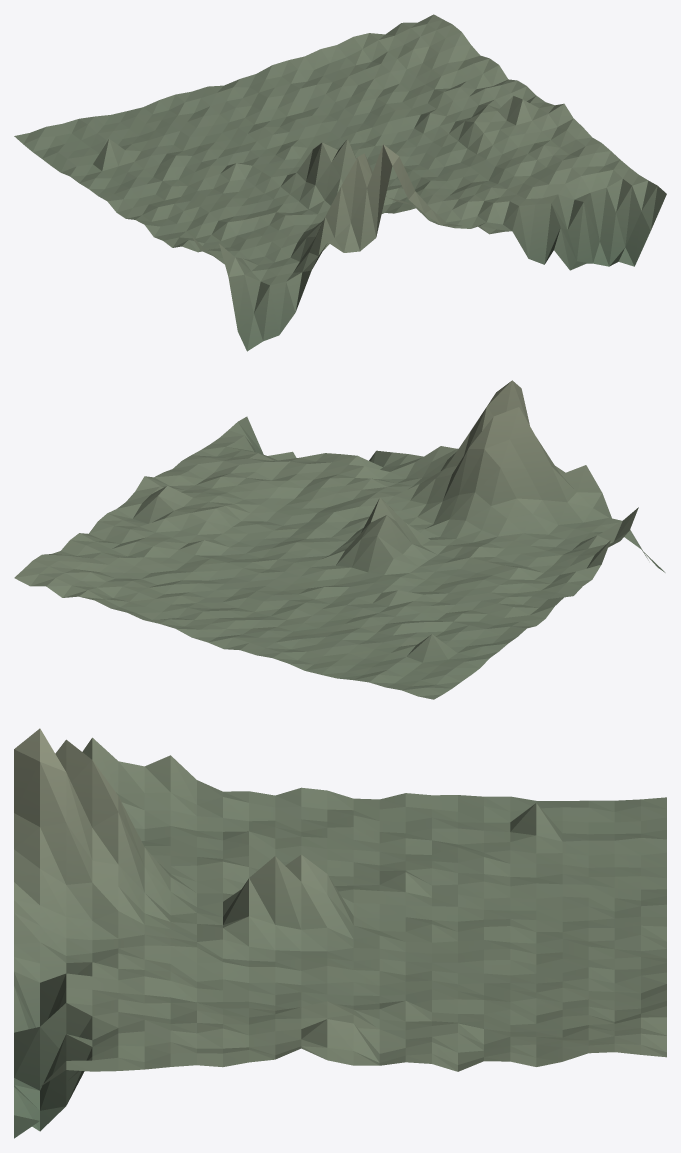
The model's file is tile_0_1.glb.
3 renders of one model, top to bottom at view 1: azimuth 30°, elevation 25°; view 2: azimuth 150°, elevation 25°; view 3: azimuth 270°, elevation 25°, orthographic. The views are drawn at different scales.
Parts seen in each view (by area): view 1: geometry_0; view 2: geometry_0; view 3: geometry_0.
Part boxes in pixels (x1=…): geometry_0: x1=14, y1=14, x2=666, y2=351; geometry_0: x1=14, y1=380, x2=665, y2=699; geometry_0: x1=14, y1=728, x2=666, y2=1138.
Bounding box in the file's own units: 127 × 51.54 × 123.
